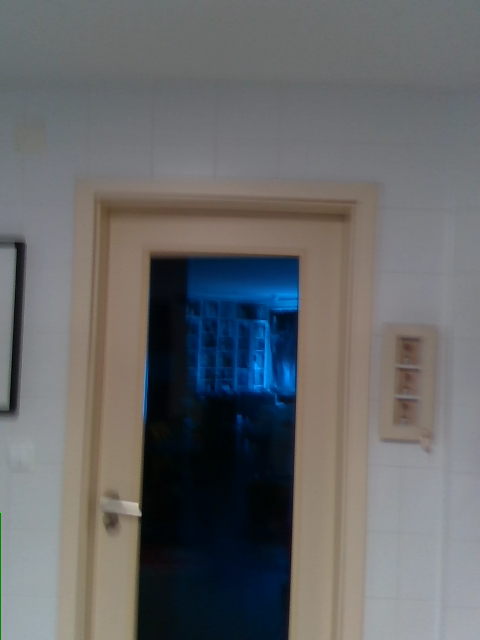closed: (57, 180, 376, 639)
